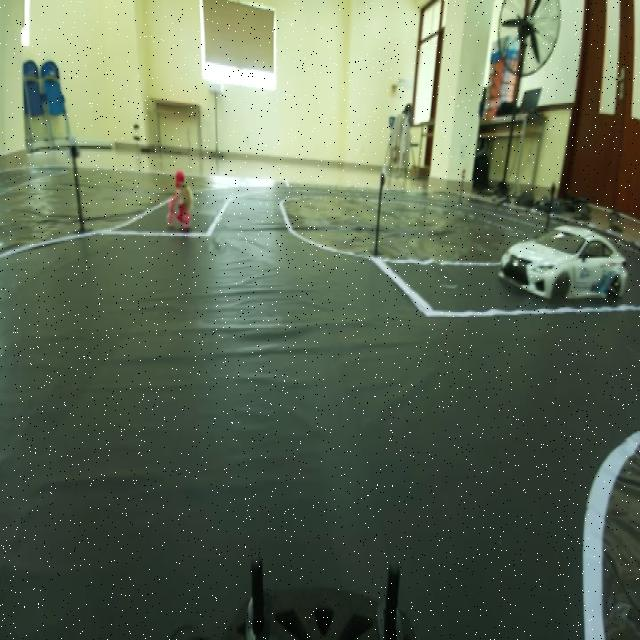car: (498, 220, 611, 308)
